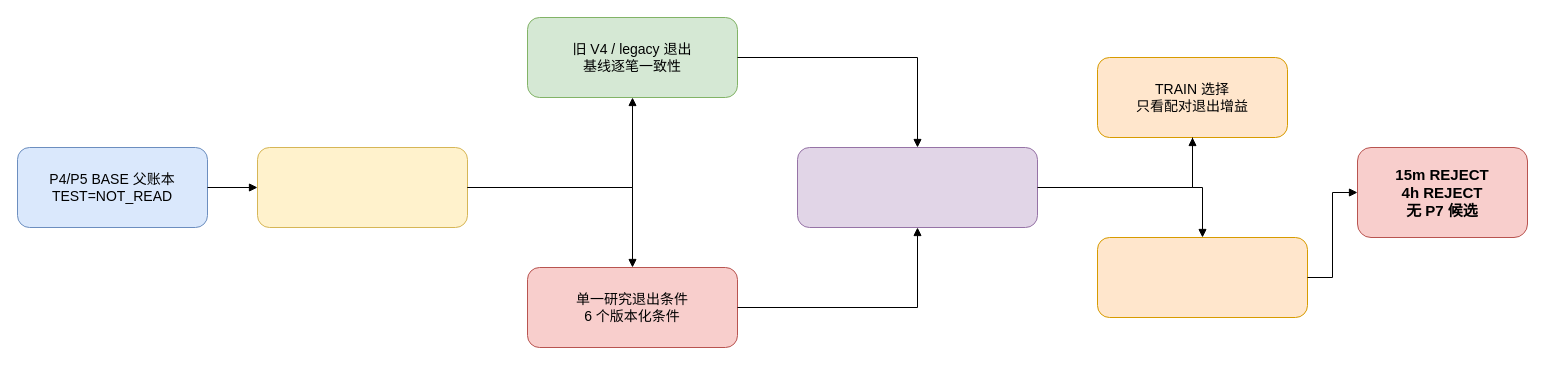
The diagram is 1545 pixels wide and 365 high, and some of its shapes have lost their labels. Here are the shapes that lost their labels. From the top down, the centre of each, then its label:
(362,187): 冻结相同入场 signal / entry / model / side / qty
(917,187): 硬止损 / 目标 / 正式退出优先 PASS FAIL UNKNOWN SKIPPED
(1202,277): VALIDATION 判定 经济性 + 配对统计 + 5窗口
